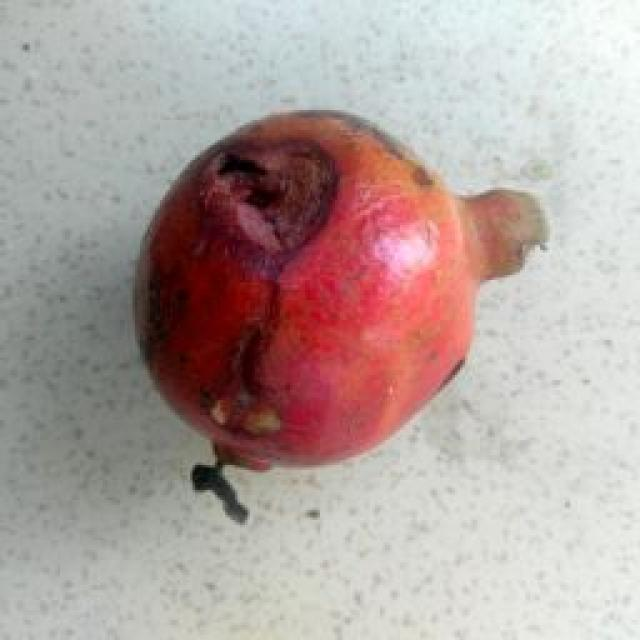Rotten: (122, 102, 556, 523)
